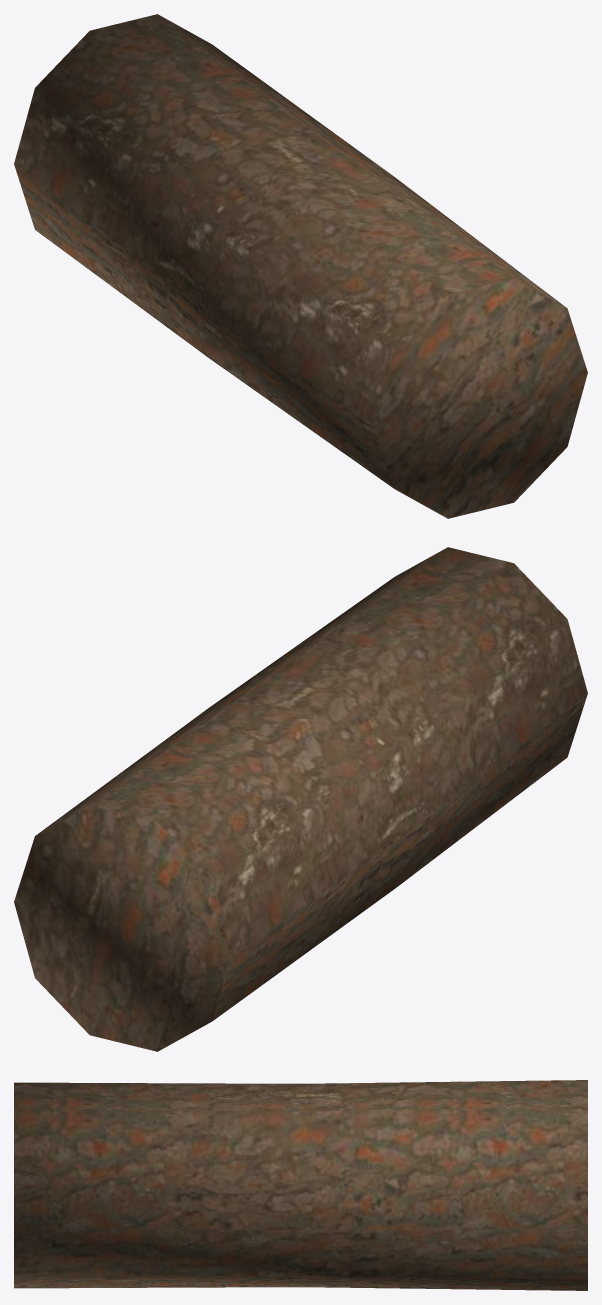
The model's file is madera_mano.glb.
3 renders of one model, top to bottom at view 1: azimuth 30°, elevation 25°; view 2: azimuth 150°, elevation 25°; view 3: azimuth 270°, elevation 25°, orthographic. The views are drawn at different scales.
Visible parts, largest first — view 1: madera_mano; view 2: madera_mano; view 3: madera_mano.
Boxes of the visible parts, x1,y1,x2,y2 form: madera_mano: (14,14,587,518); madera_mano: (14,547,587,1051); madera_mano: (14,1080,587,1290).
Size of the model in its own units: 0.082 by 0.078 by 0.22.
Materials: 1 (1 with a texture image).
